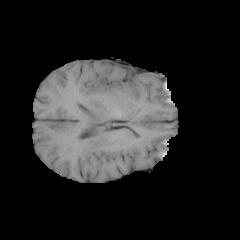glioma: (86, 69, 139, 110)
